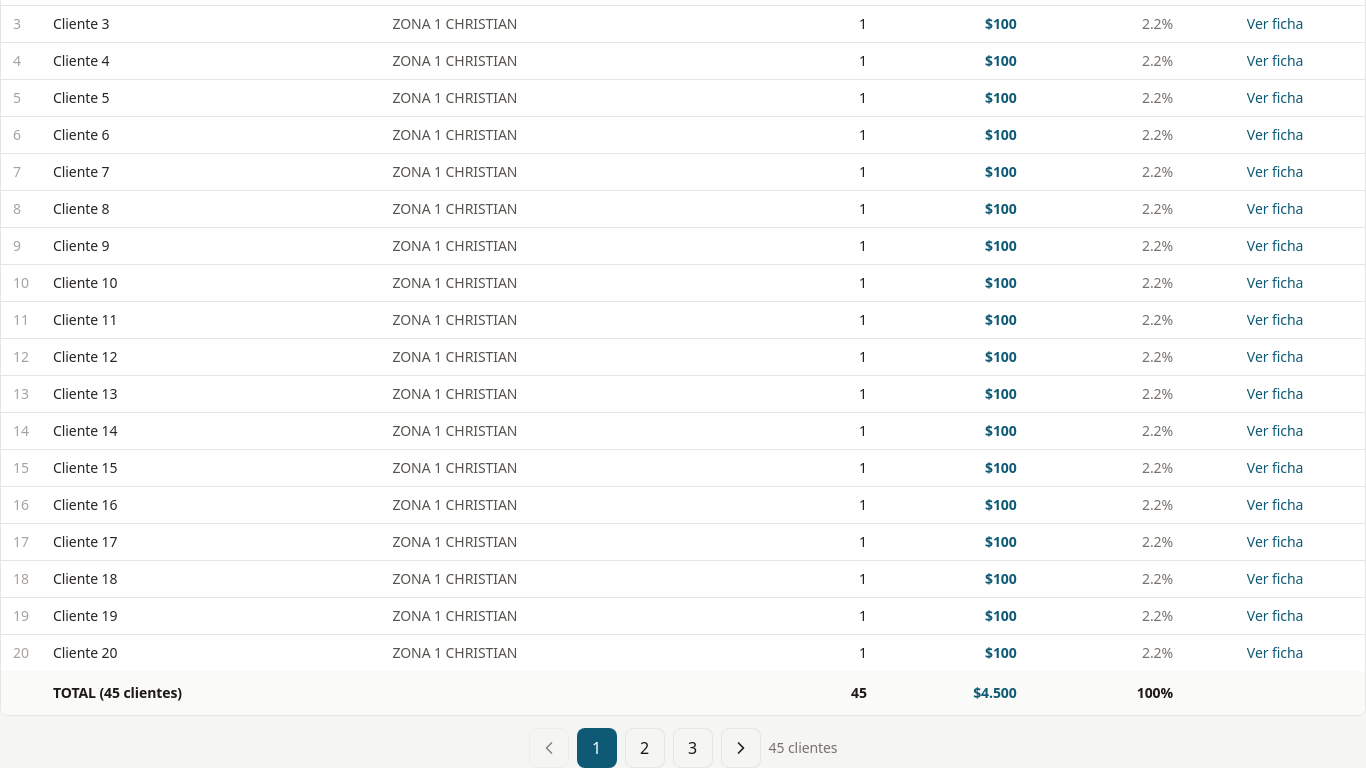
Test: ReporteVentasClientes › pagina los clientes: ninguno queda fuera de alcance
(page scrolled)
Expected: the text "Cliente 20" is shown, [41,634,380,671]
Expected: the text "45 clientes" is shown, [768,738,837,758]
Click the button named "Página 3": coordinates (692, 748) [672,728,712,767]
(page scrolled)
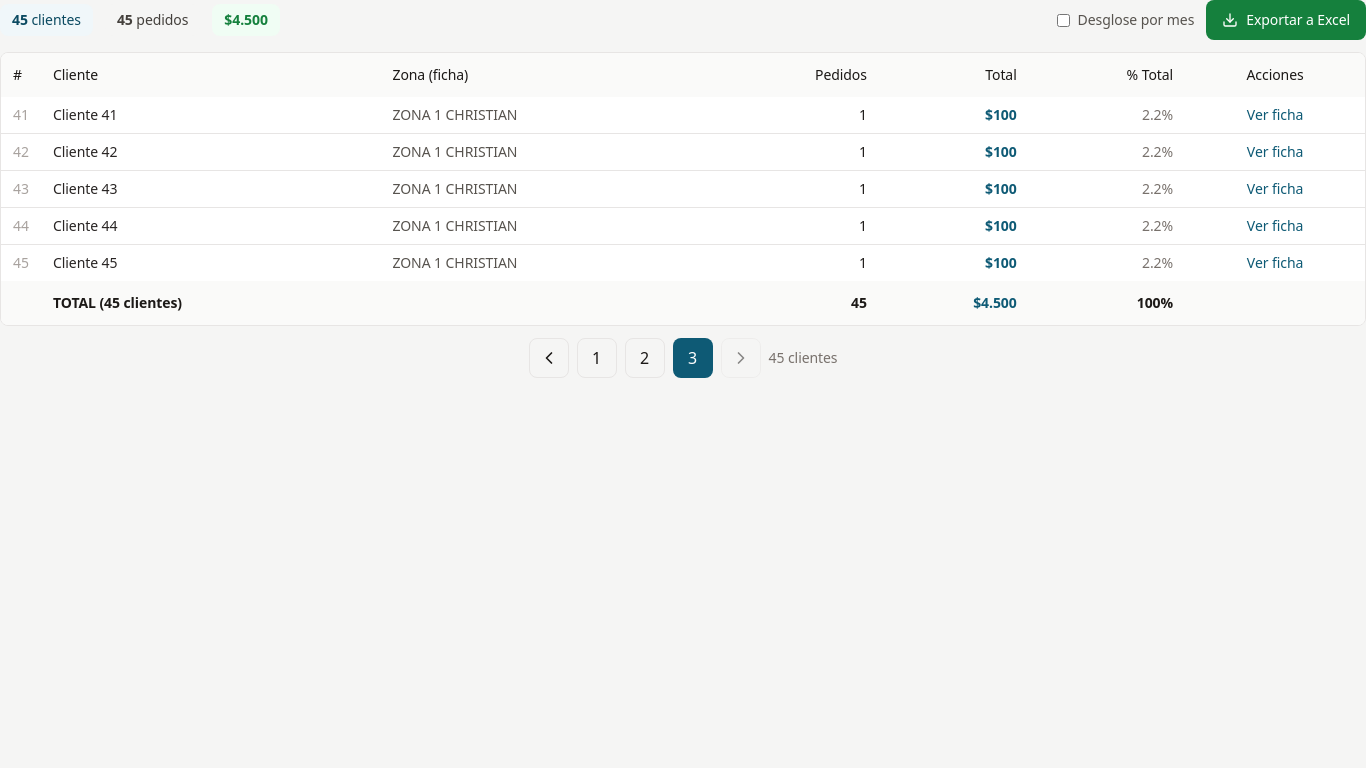
Now the text "Cliente 45" is shown, box [41,244,380,281]
Now the text "Cliente 41" is shown, box [41,97,380,134]
